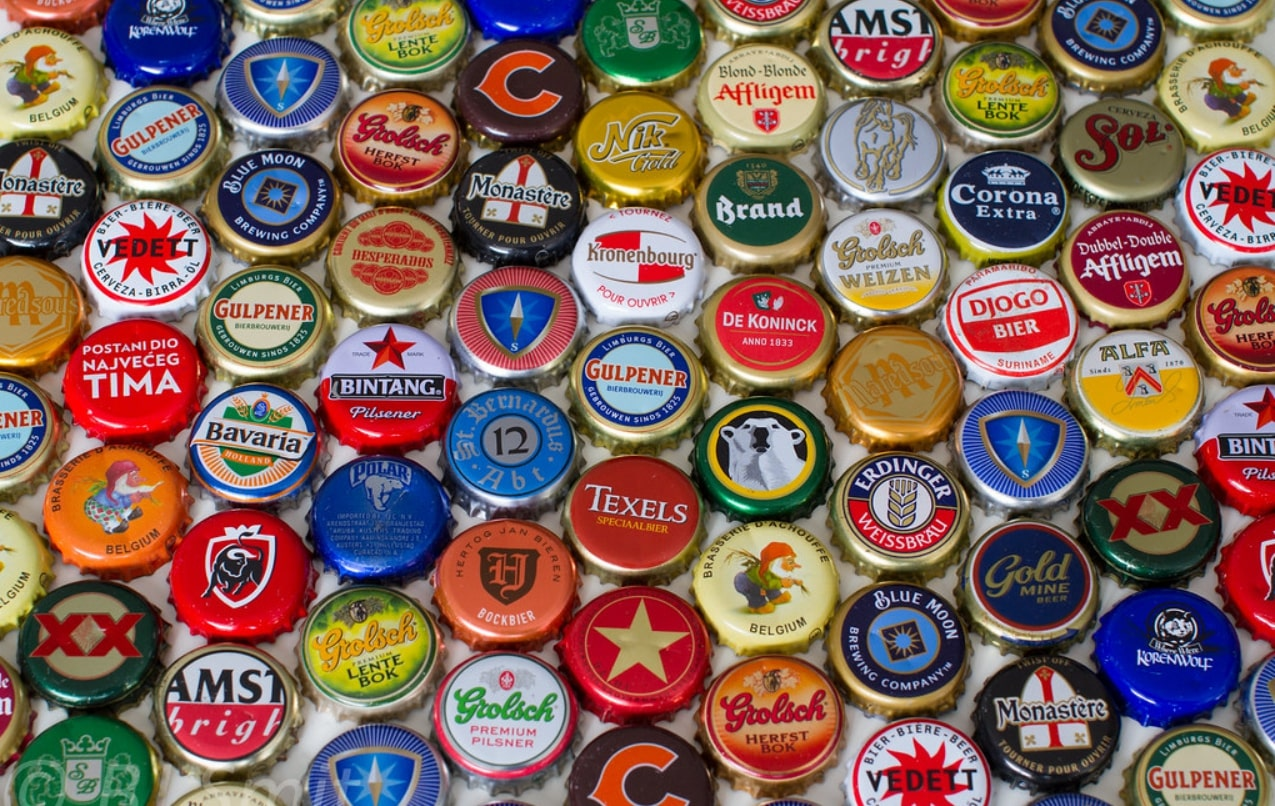corona: (942, 147, 1071, 262)
